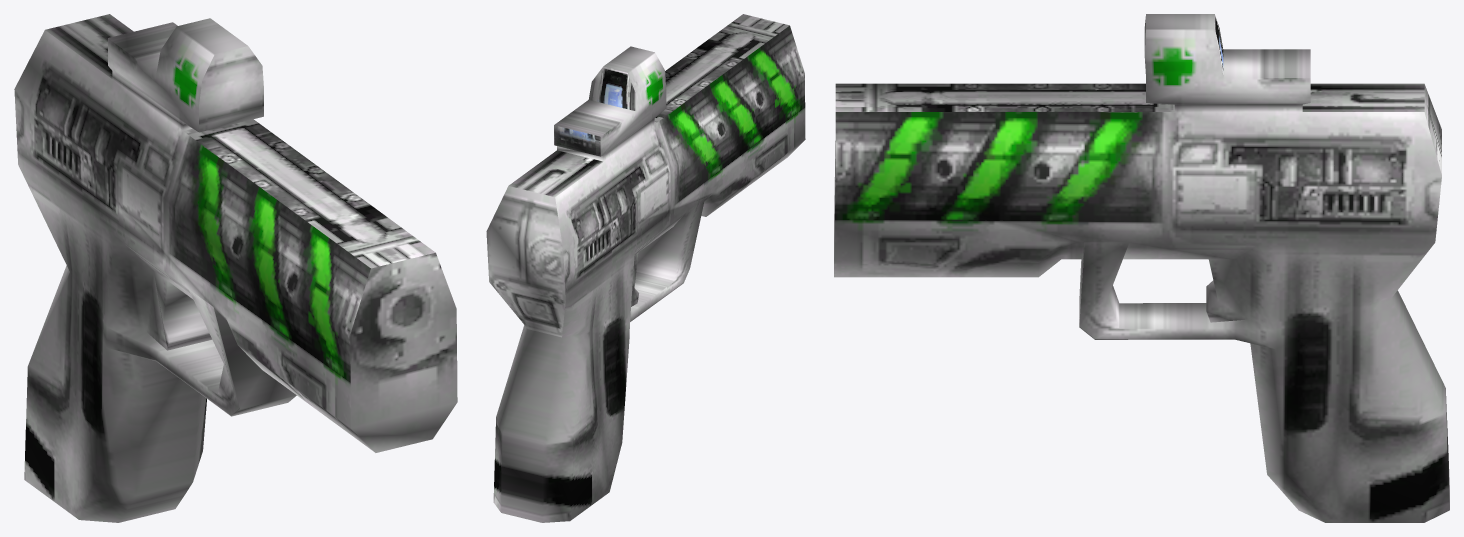
3 views of the same model, side by side, from view 1: azimuth 30°, elevation 25°; view 2: azimuth 150°, elevation 25°; view 3: azimuth 270°, elevation 25° (orthographic). The views are drawn at different scales.
Parts seen in each view (by area): view 1: Epistol; view 2: Epistol; view 3: Epistol.
Boxes of the visible parts, x1,y1,x2,y2 form: Epistol: (14, 14, 457, 522); Epistol: (486, 14, 805, 522); Epistol: (834, 14, 1449, 522).
Bounding box in the file's own units: 1.95 × 9.25 × 10.8.
Materials: 1 (1 with a texture image).
